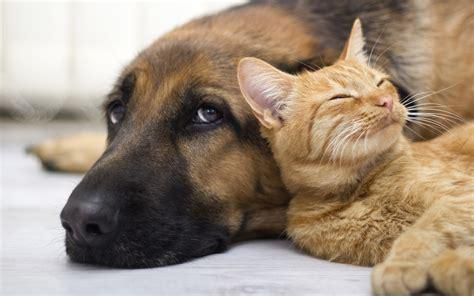dog: (26, 1, 474, 270), (237, 18, 474, 296)
